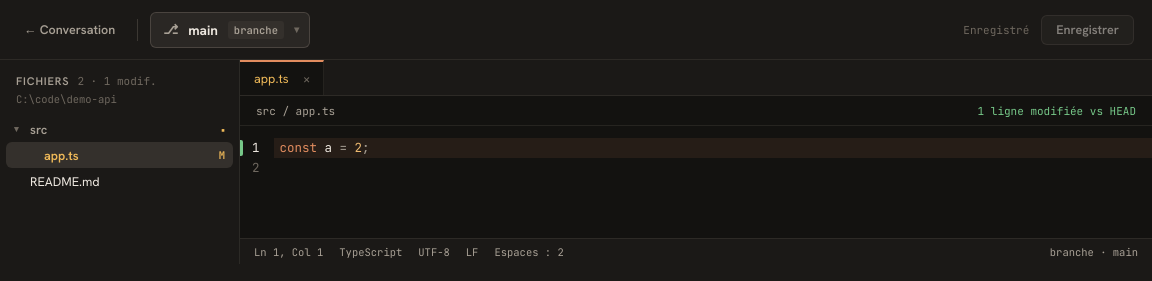
EditorView › keeps an empty editor empty while git events come in
Expected: the text "1 ligne modifiée vs HEAD" is shown, [978,104,1136,118]
Click the button named "Fermer app.ts": (307,78) [297,68,317,88]
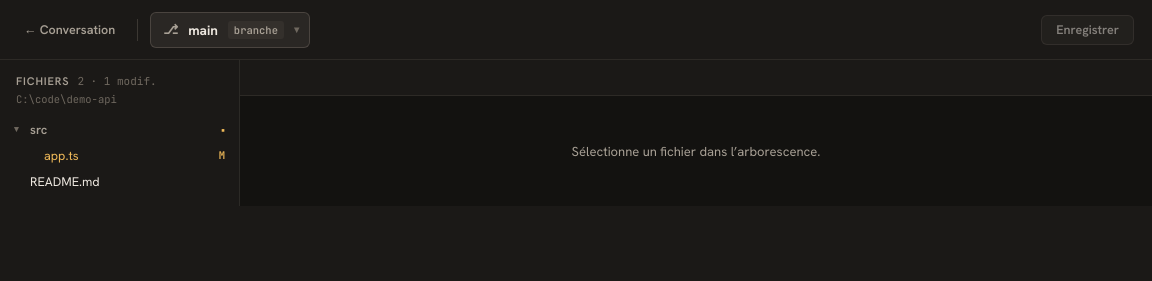
Result: the text "Sélectionne un fichier dans l’arborescence." is shown at [572,142,820,160]
Result: the tab is gone
